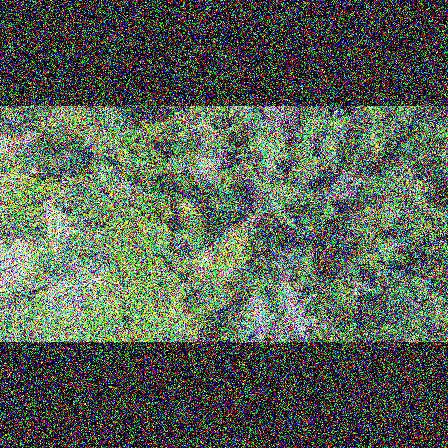Dead: (57, 258, 111, 316), (227, 107, 319, 139), (279, 285, 323, 339), (237, 287, 279, 342), (168, 148, 226, 186), (317, 167, 367, 209), (341, 269, 380, 300)
